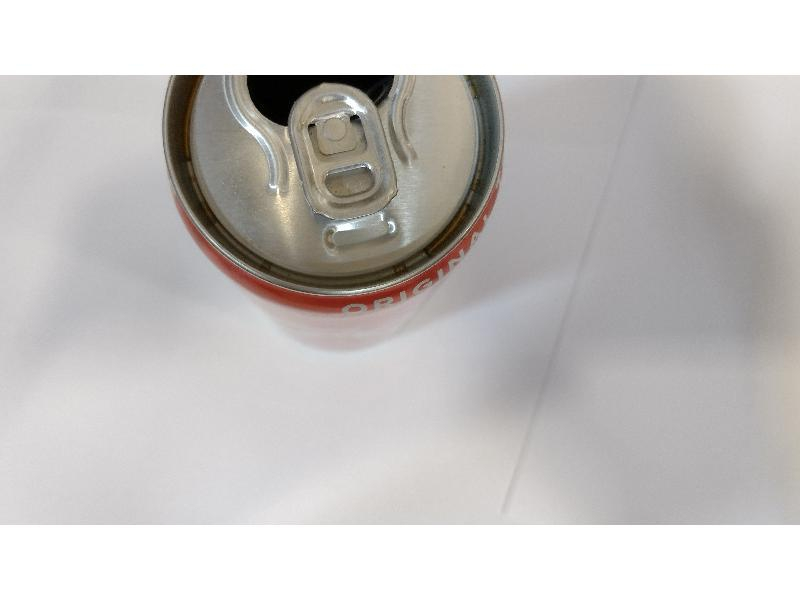can: (158, 77, 509, 355)
